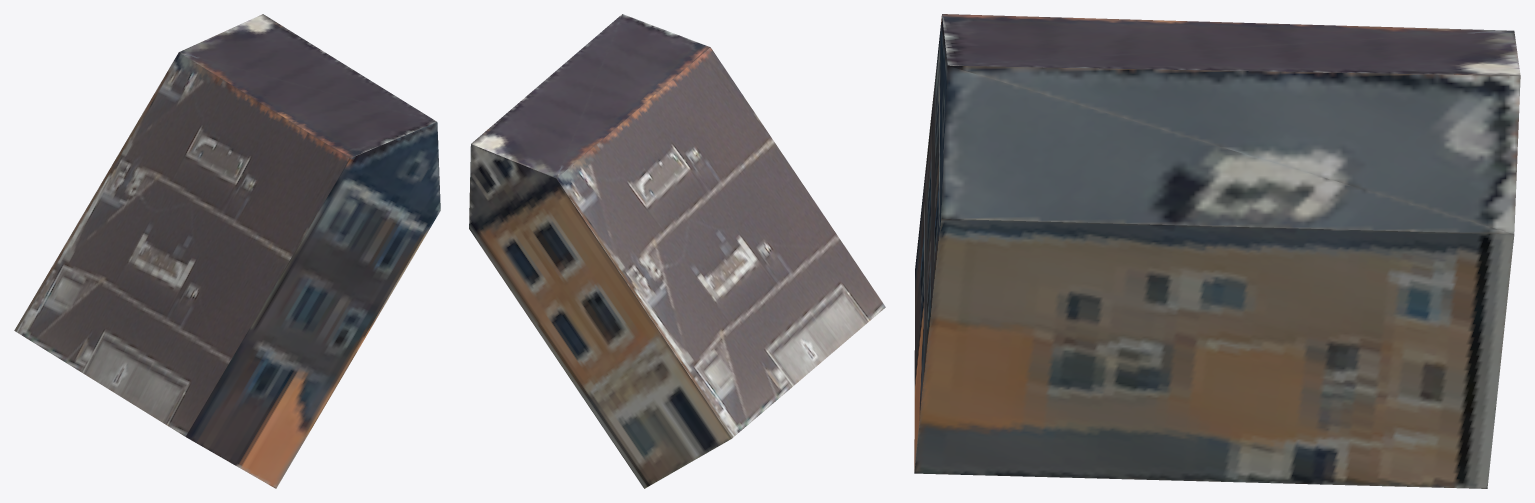
The picture shows the model from 3 angles, left to right: view 1: azimuth 30°, elevation 25°; view 2: azimuth 150°, elevation 25°; view 3: azimuth 270°, elevation 25°; orthographic projection. The views are drawn at different scales.
Visible parts, largest first — view 1: BAG_0599100000688737 (×2); view 2: BAG_0599100000688737 (×2); view 3: BAG_0599100000688737 (×2).
Boxes of the visible parts, x1,y1,x2,y2 form: BAG_0599100000688737 (×2): (14,14,440,488); BAG_0599100000688737 (×2): (469,14,885,488); BAG_0599100000688737 (×2): (914,14,1520,488).
Bounding box in the file's own units: 11.32 × 13.29 × 12.72.
2 materials, 2 textured.
